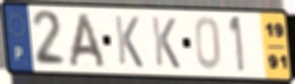0: (192, 14, 223, 74)
1: (227, 14, 247, 76)
2: (30, 8, 68, 69)
A: (67, 11, 108, 70)
K: (112, 13, 145, 70), (149, 15, 182, 71)
